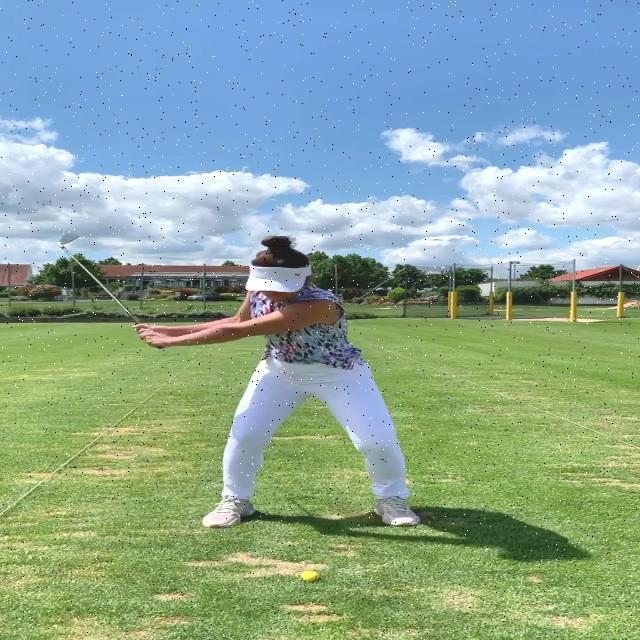ClubHead: (54, 232, 81, 245)
GolfBall: (302, 570, 318, 580)
